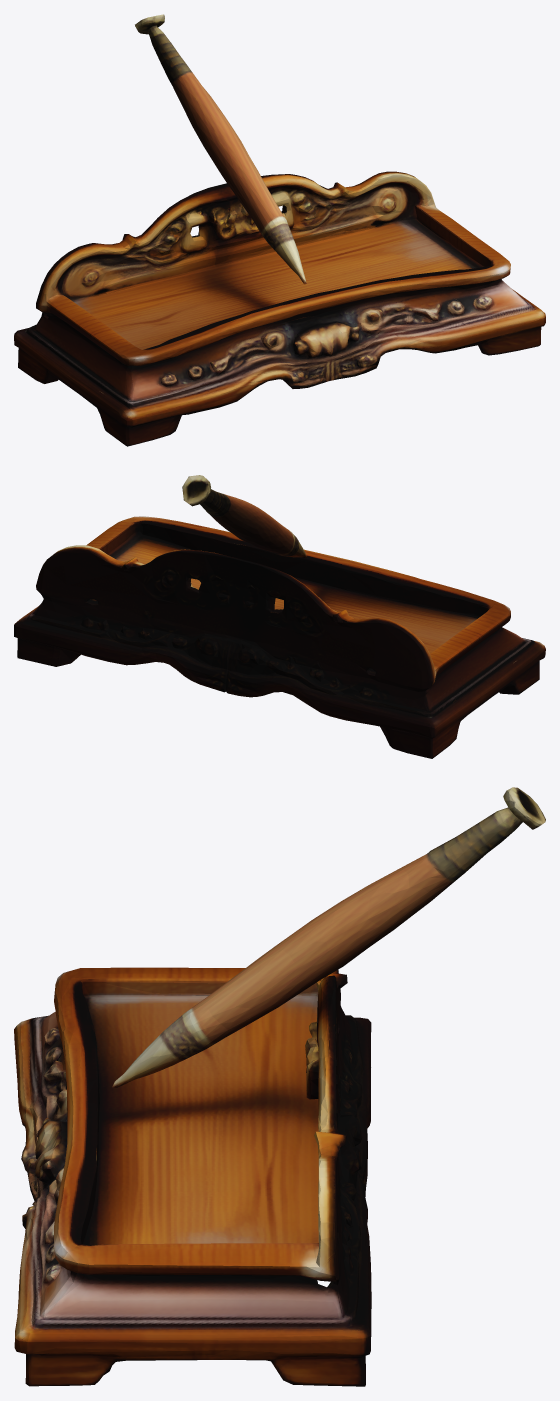
File: wooden-pen-stand-vintage.jpeg.glb
The picture shows the model from 3 angles, top to bottom: view 1: azimuth 30°, elevation 25°; view 2: azimuth 150°, elevation 25°; view 3: azimuth 270°, elevation 25°; orthographic projection. The views are drawn at different scales.
Visible parts, largest first — view 1: world; view 2: world; view 3: world.
Part boxes in pixels (x1,y1,x2,y2): world: (14, 14, 545, 446); world: (14, 475, 545, 758); world: (14, 787, 545, 1386).
Size of the model in its own units: 0.9992 by 0.615 by 0.7021.
1 material, 1 textured.
